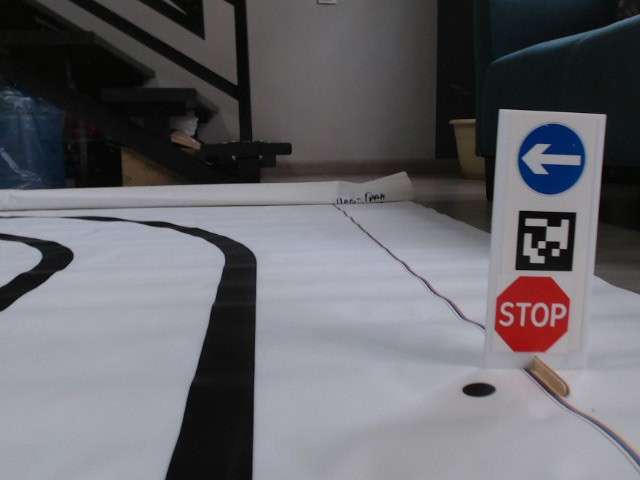Stop: (493, 273, 572, 352)
